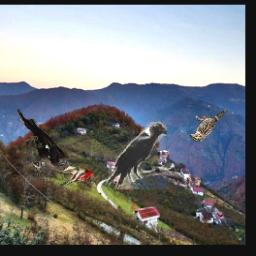Crow: (103, 120, 167, 190)
Sparrow: (189, 110, 226, 143)
Woodpecker: (17, 110, 93, 189)
